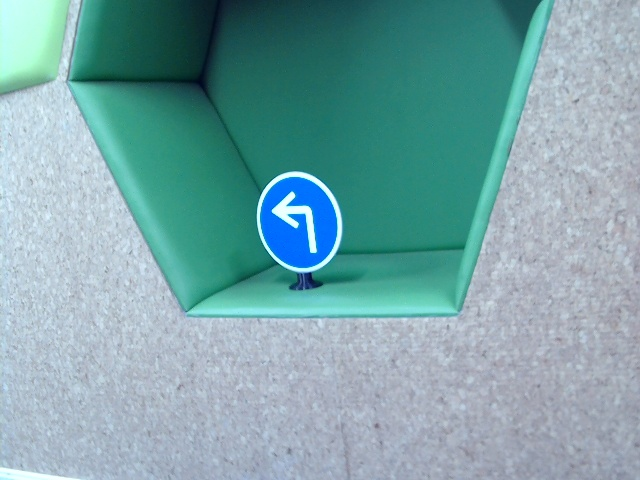turn_left: (270, 190, 318, 256)
